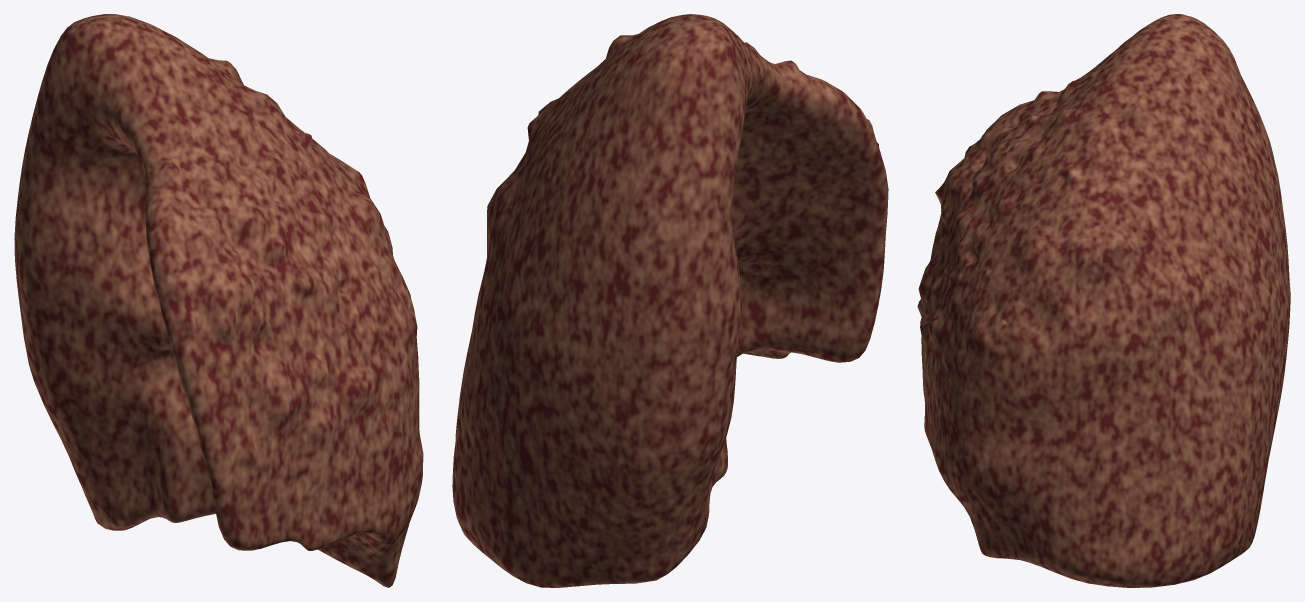
File: dead_lung.glb
The picture shows the model from 3 angles, left to right: view 1: azimuth 30°, elevation 25°; view 2: azimuth 150°, elevation 25°; view 3: azimuth 270°, elevation 25°; orthographic projection. The views are drawn at different scales.
Parts seen in each view (by area): view 1: dead_lung; view 2: dead_lung; view 3: dead_lung.
Part boxes in pixels (x1,y1,x2,y2): dead_lung: [14, 14, 423, 587]; dead_lung: [452, 14, 888, 587]; dead_lung: [917, 14, 1290, 587].
Size of the model in its own units: 0.2045 by 0.3479 by 0.2476.
1 material, 1 textured.
